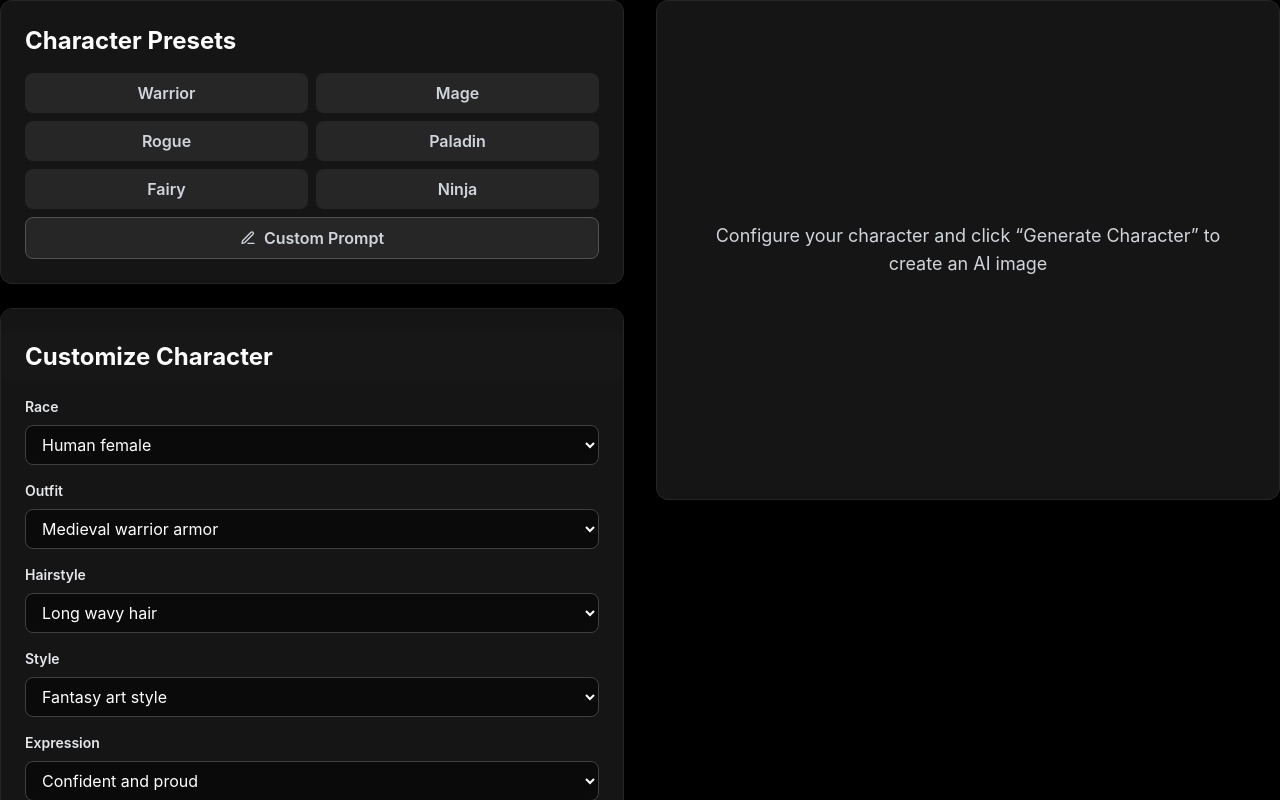
CharacterCustomizer › switches to custom prompt mode when Custom Prompt is clicked
The width and height of the screenshot is (1280, 800).
Click the button "Custom Prompt" at (312, 238), box [25, 217, 599, 259]
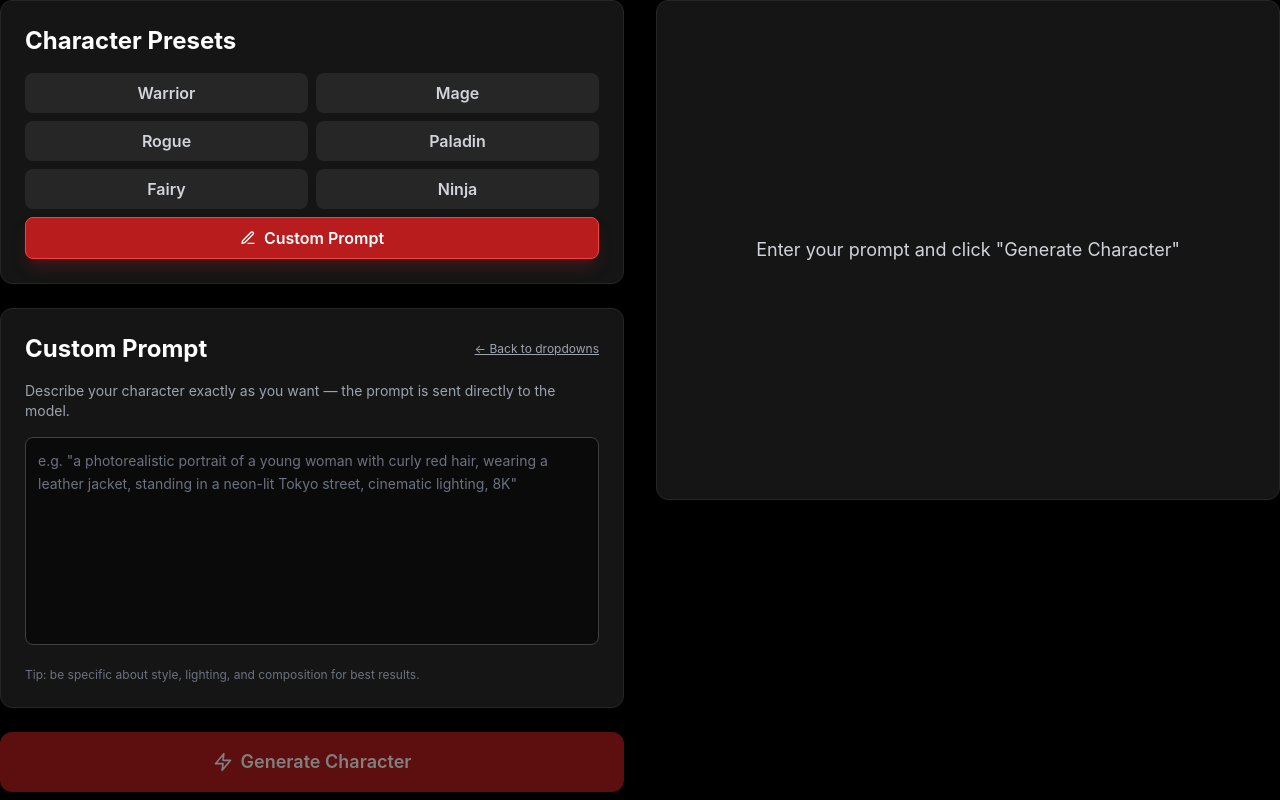
Expected: the heading "Custom Prompt" is shown, [25, 333, 207, 365]
Expected: the heading "Customize Character" is gone
